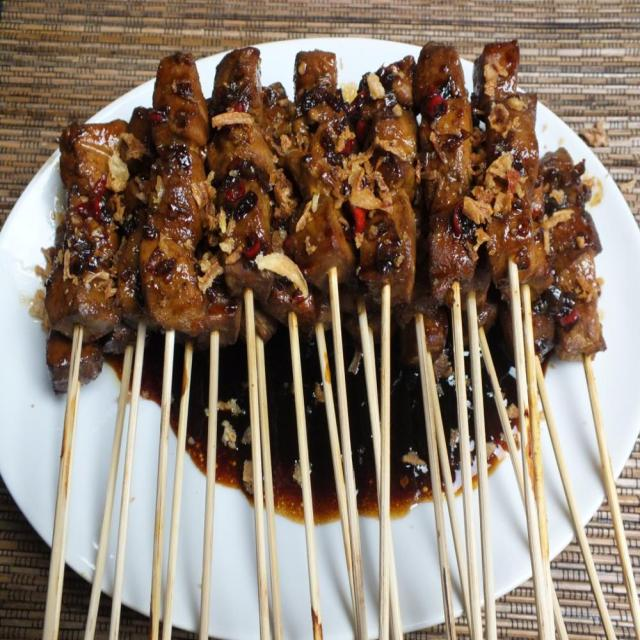Sate: (7, 35, 640, 640)
